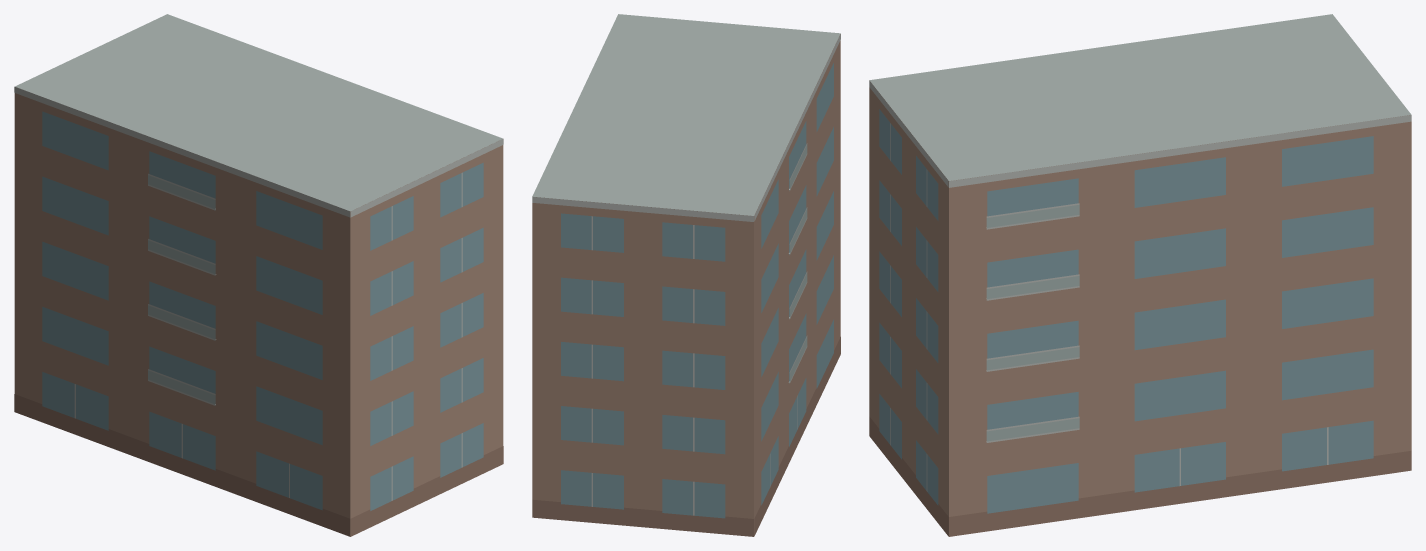
Rendered from survey-upis-32568684.glb.
The picture shows the model from 3 angles, left to right: view 1: azimuth 30°, elevation 25°; view 2: azimuth 150°, elevation 25°; view 3: azimuth 270°, elevation 25°; orthographic projection. The views are drawn at different scales.
Parts seen in each view (by area): view 1: survey-upis-32568684.tmp; view 2: survey-upis-32568684.tmp; view 3: survey-upis-32568684.tmp.
Part boxes in pixels (left/top/right/bottom): survey-upis-32568684.tmp: left=14, top=14, right=503, bottom=536; survey-upis-32568684.tmp: left=532, top=14, right=840, bottom=536; survey-upis-32568684.tmp: left=869, top=14, right=1411, bottom=536.
Size of the model in its own units: 12.91 by 12.8 by 17.7.
